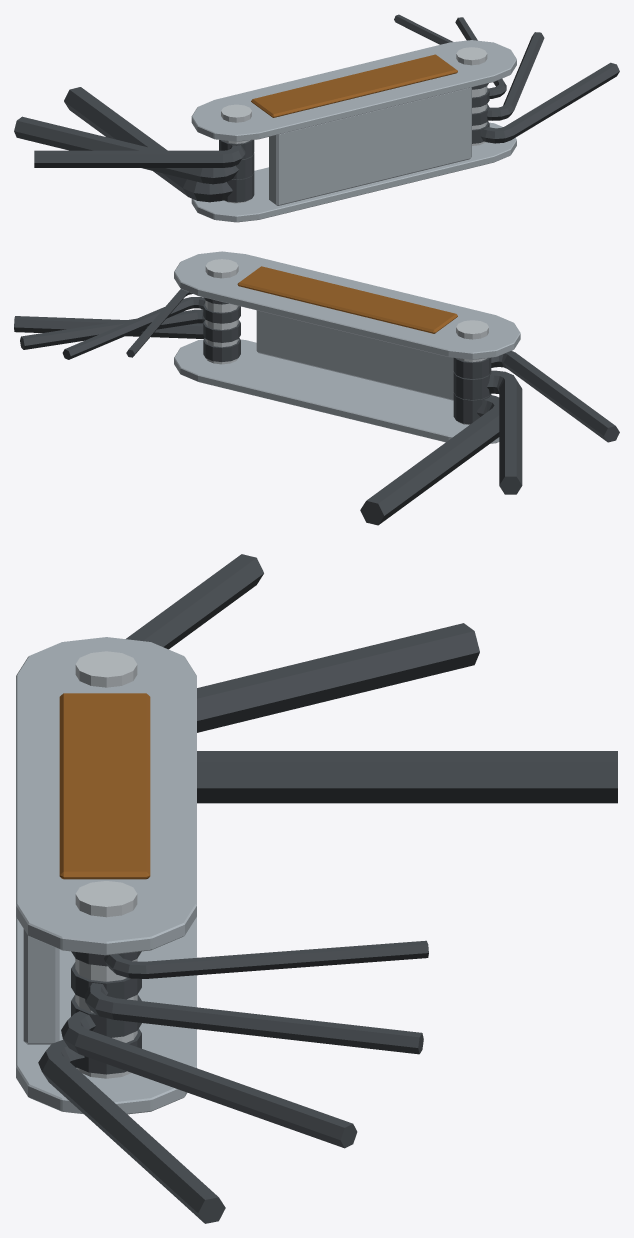
File: folding_hex_key_LOD2.glb
3 renders of one model, top to bottom at view 1: azimuth 30°, elevation 25°; view 2: azimuth 150°, elevation 25°; view 3: azimuth 270°, elevation 25°, orthographic. The views are drawn at different scales.
Parts seen in each view (by area): view 1: Case_backbone, Case_upper_cheek, Case_lower_cheek, Top_inset_ochre_grip, Key_L_4p0mm, Key_L_6p0mm, Key_L_5p0mm, Key_R_3p5mm, Key_R_3p0mm, Key_R_2p5mm, Key_R_2p0mm, Pivot_R_upper_cap (+1 smaller); view 2: Case_lower_cheek, Case_upper_cheek, Case_backbone, Key_L_6p0mm, Top_inset_ochre_grip, Key_L_5p0mm, Key_L_4p0mm, Key_R_3p5mm, Key_R_3p0mm, Key_R_2p5mm, Key_R_2p0mm, Pivot_R_upper_cap (+1 smaller); view 3: Case_upper_cheek, Key_L_6p0mm, Top_inset_ochre_grip, Key_L_5p0mm, Case_lower_cheek, Key_R_3p0mm, Key_R_2p5mm, Key_R_3p5mm, Key_R_2p0mm, Key_L_4p0mm, Case_backbone, Pivot_L_upper_cap (+1 smaller).
Part boxes in pixels (x1,y1,x2,y2): Case_backbone: (269,87,471,205); Case_upper_cheek: (191,40,516,141); Case_lower_cheek: (191,122,516,222); Top_inset_ochre_grip: (251,54,457,117); Key_L_4p0mm: (34,140,254,167); Key_L_6p0mm: (64,87,254,202); Key_L_5p0mm: (14,116,254,184); Key_R_3p5mm: (472,62,619,143); Key_R_3p0mm: (472,32,544,125); Key_R_2p5mm: (455,17,506,107); Key_R_2p0mm: (394,14,488,89); Pivot_R_upper_cap: (456,47,487,65); Case_lower_cheek: (174,339,499,443); Case_upper_cheek: (174,251,520,359); Case_backbone: (256,310,453,400); Key_L_6p0mm: (360,393,499,525); Top_inset_ochre_grip: (237,266,457,333); Key_L_5p0mm: (453,370,522,494); Key_L_4p0mm: (453,351,619,442); Key_R_3p5mm: (14,316,240,361); Key_R_3p0mm: (20,309,240,349); Key_R_2p5mm: (62,297,240,359); Key_R_2p0mm: (126,289,228,357); Pivot_R_upper_cap: (205,259,238,278); Case_upper_cheek: (16,637,196,955); Key_L_6p0mm: (197,751,617,803); Top_inset_ochre_grip: (59,693,150,879); Key_L_5p0mm: (197,623,479,732); Case_lower_cheek: (16,917,196,1114); Key_R_3p0mm: (61,994,357,1148); Key_R_2p5mm: (71,962,423,1054); Key_R_3p5mm: (38,1028,225,1223); Key_R_2p0mm: (71,940,428,978); Key_L_4p0mm: (126,554,263,649); Case_backbone: (23,929,59,1044); Pivot_L_upper_cap: (75,651,137,687).
Bounding box in the file's own units: 0.1765 × 0.0286 × 0.0798.
